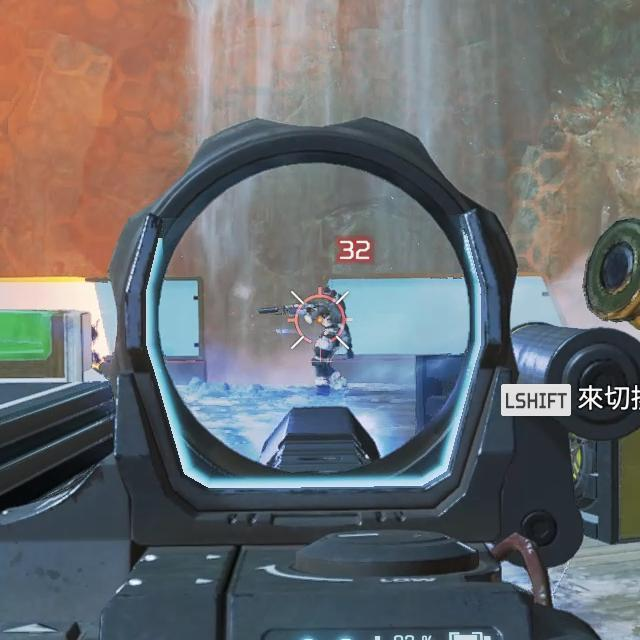avatar: (310, 284, 353, 398)
